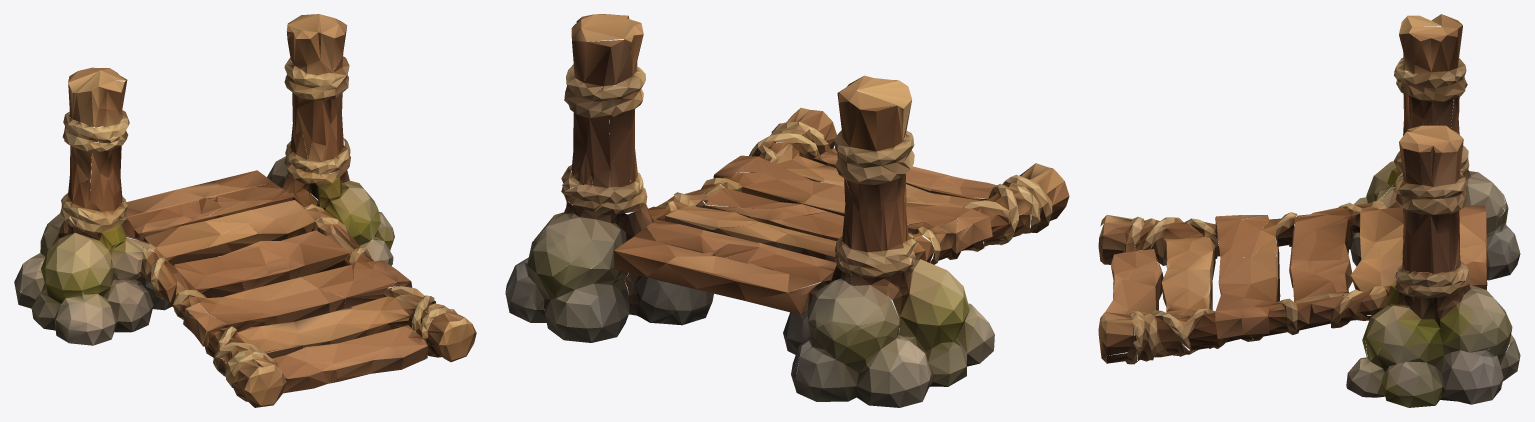
Rendered from building-bridge-end-tripo.glb.
3 views of the same model, side by side, from view 1: azimuth 30°, elevation 25°; view 2: azimuth 150°, elevation 25°; view 3: azimuth 270°, elevation 25° (orthographic). The views are drawn at different scales.
Visible parts, largest first — view 1: 0_bridge-end; view 2: 0_bridge-end; view 3: 0_bridge-end.
Part boxes in pixels (x1=…): 0_bridge-end: x1=14, y1=14, x2=476, y2=407; 0_bridge-end: x1=505, y1=14, x2=1069, y2=407; 0_bridge-end: x1=1098, y1=14, x2=1520, y2=407.
Bounding box in the file's own units: 1.92 × 1.2 × 1.88.
